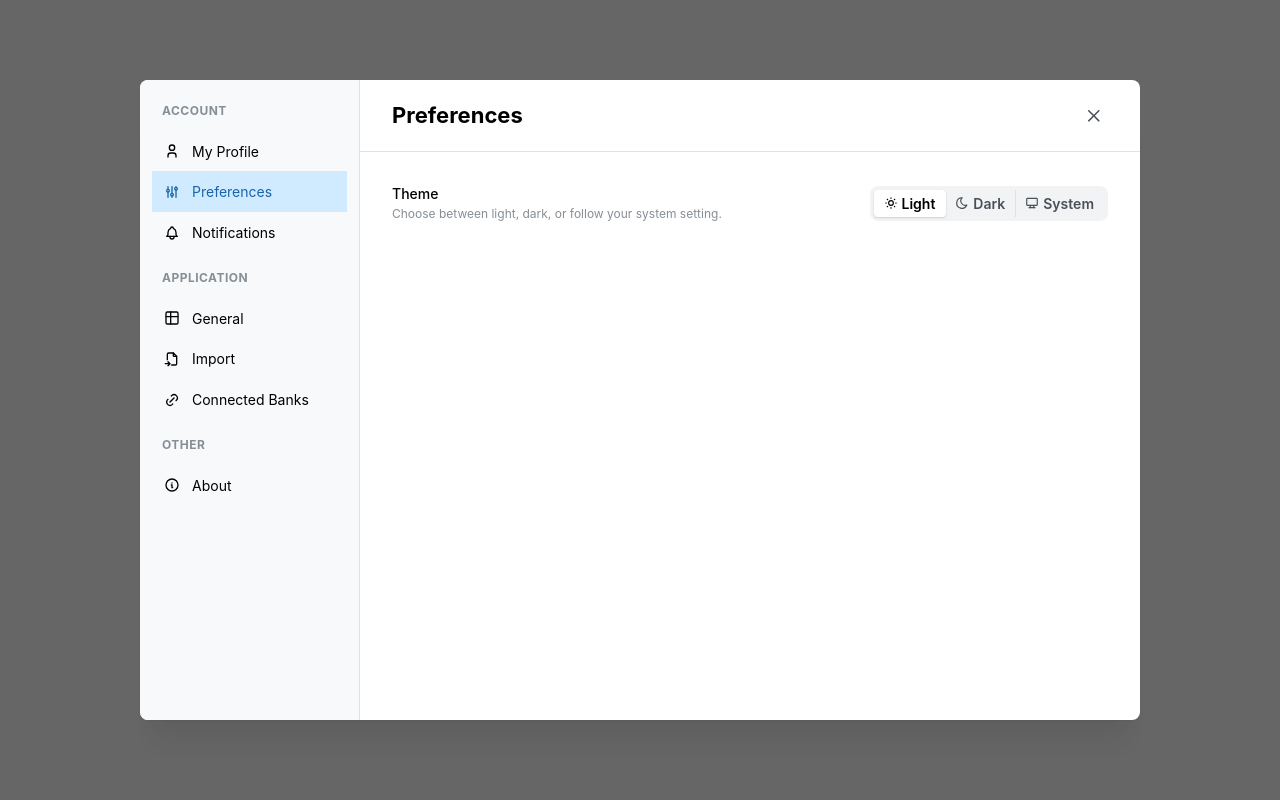
Test: SettingsModal › updates the content header when a nav item is clicked
Click the text "Notifications". click: (234, 233)
box: [192,224,276,241]
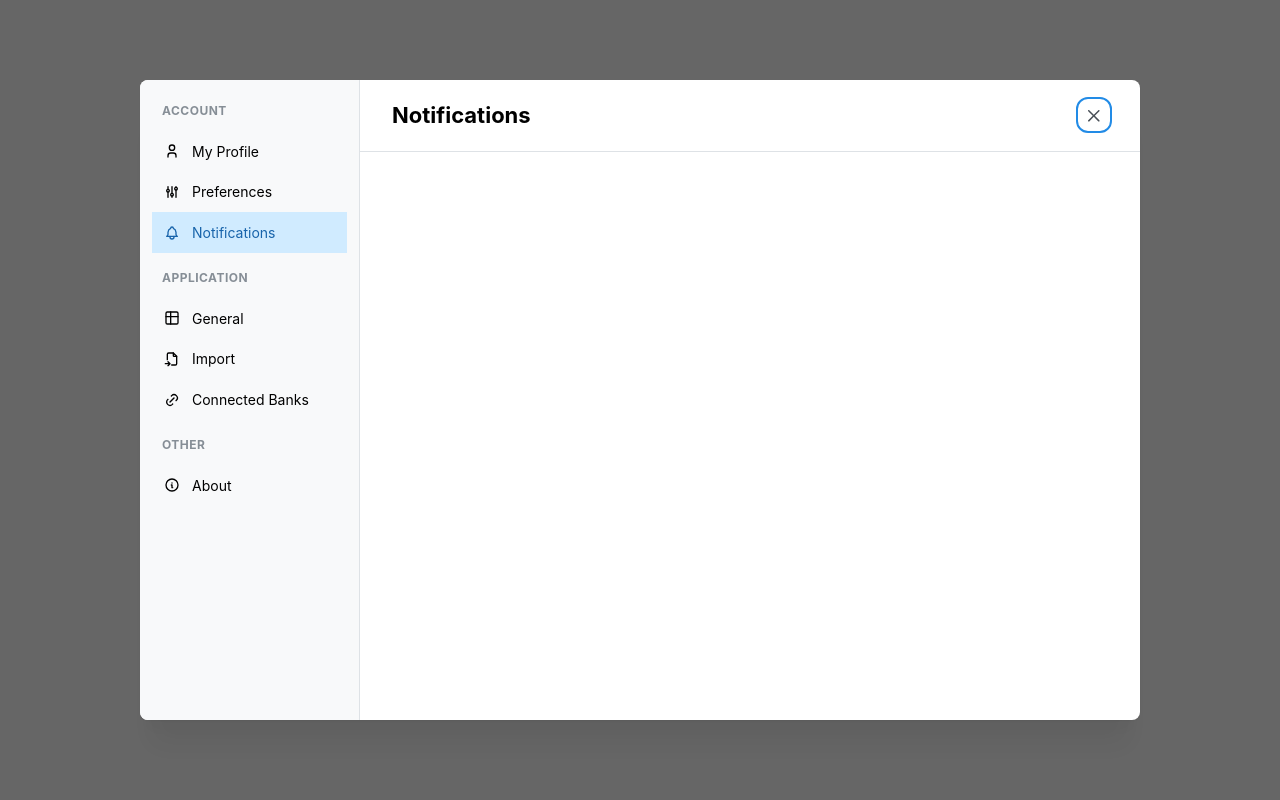
expect the heading "Notifications" is shown: met, box [392,100,531,131]
